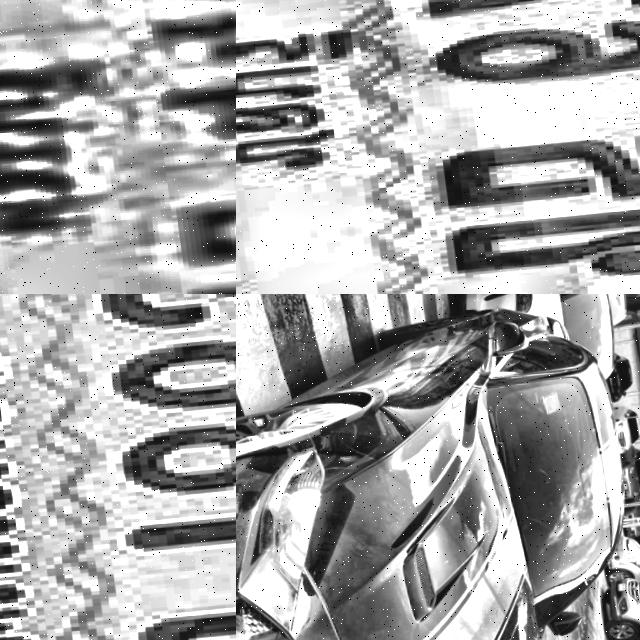license-plate: (236, 0, 640, 294), (0, 294, 236, 640), (0, 0, 236, 294), (608, 587, 622, 596)
